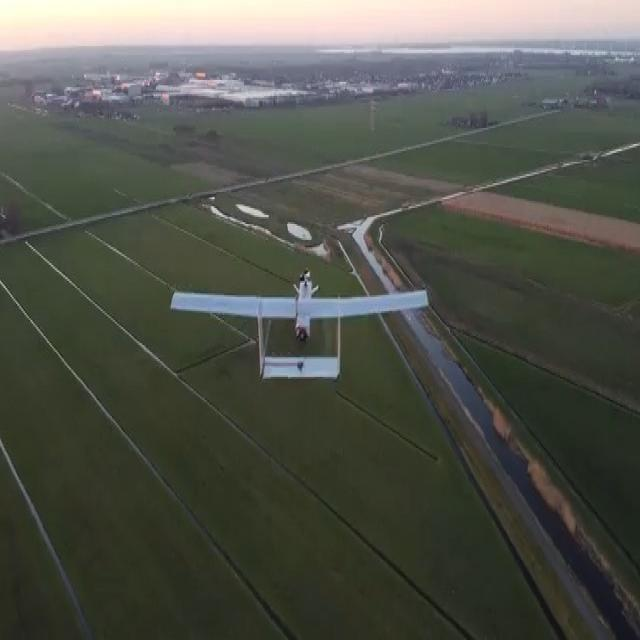iha: (172, 313, 434, 368)
